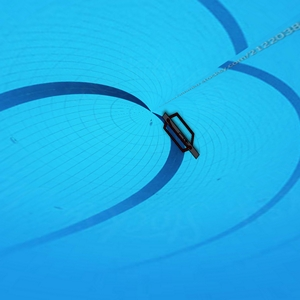submarine: (163, 111, 200, 159)
